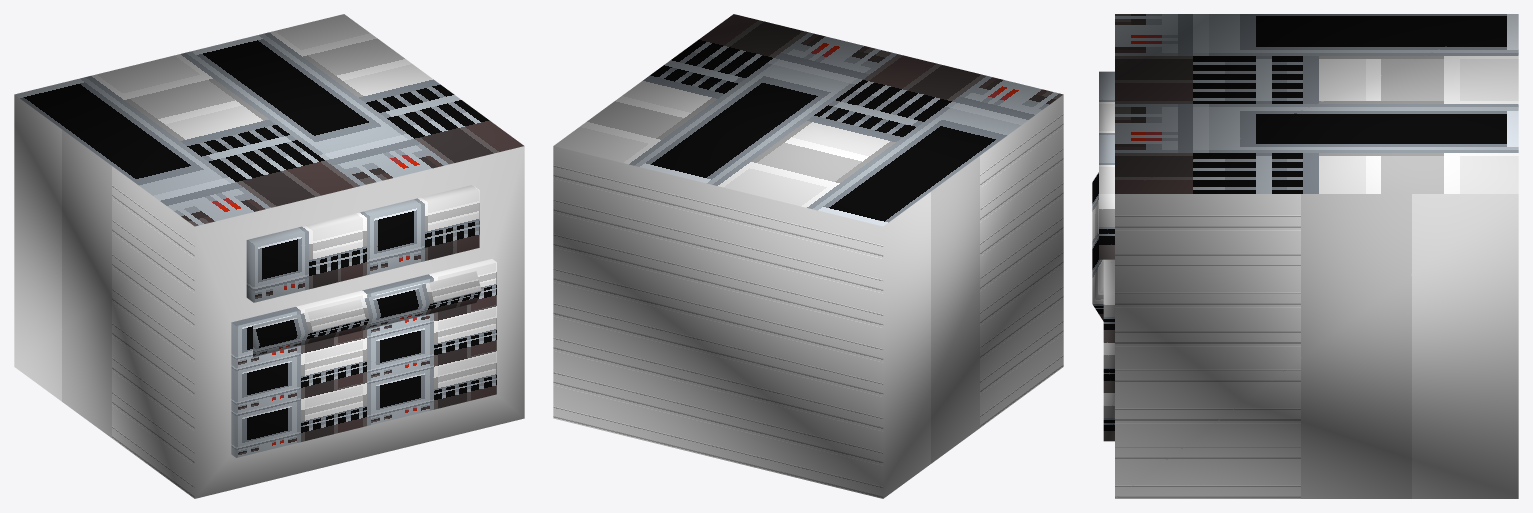
The model's file is 3522IMOT01_03.gltf.
3 views of the same model, side by side, from view 1: azimuth 30°, elevation 25°; view 2: azimuth 150°, elevation 25°; view 3: azimuth 270°, elevation 25° (orthographic). The views are drawn at different scales.
Visible parts, largest first — view 1: 3522IMOT01_03; view 2: 3522IMOT01_03; view 3: 3522IMOT01_03.
Boxes of the visible parts, x1=… form: 3522IMOT01_03: x1=14, y1=14, x2=524, y2=498; 3522IMOT01_03: x1=553, y1=14, x2=1063, y2=498; 3522IMOT01_03: x1=1092, y1=14, x2=1518, y2=498.
Size of the model in its own units: 0.9502 by 0.75 by 0.9502.
4 materials, 4 textured.
